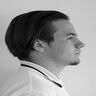ear: (26, 28, 50, 56)
